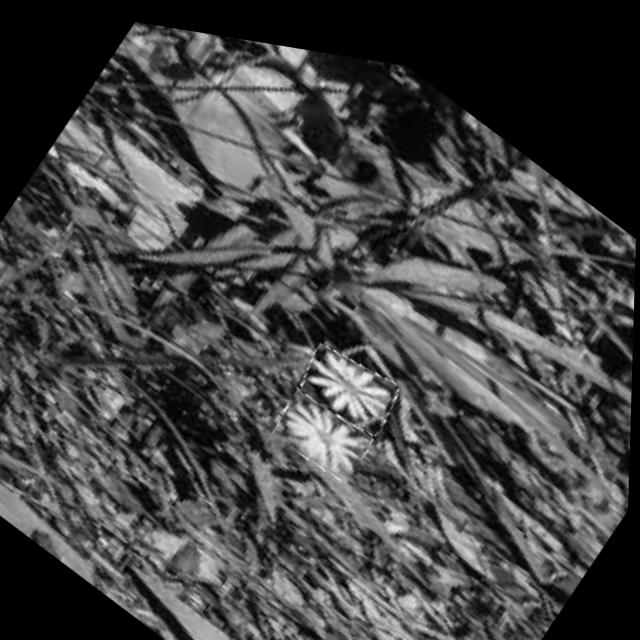Flower: (293, 321, 406, 437), (271, 372, 378, 479)
